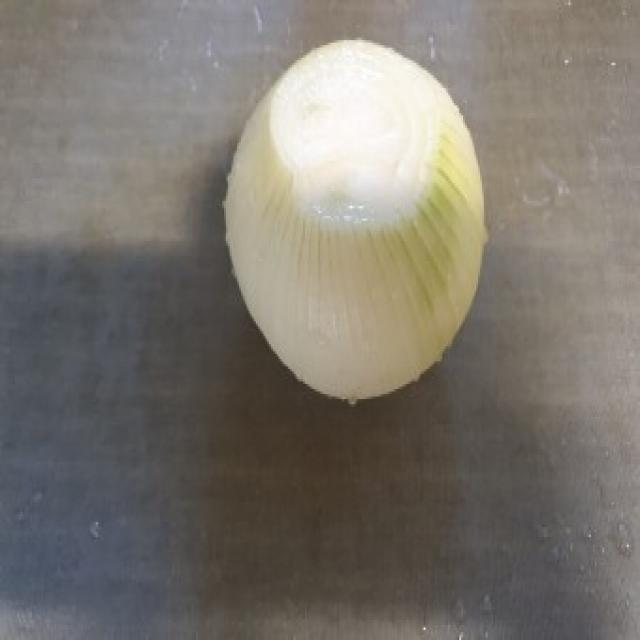onion: (226, 49, 488, 403)
